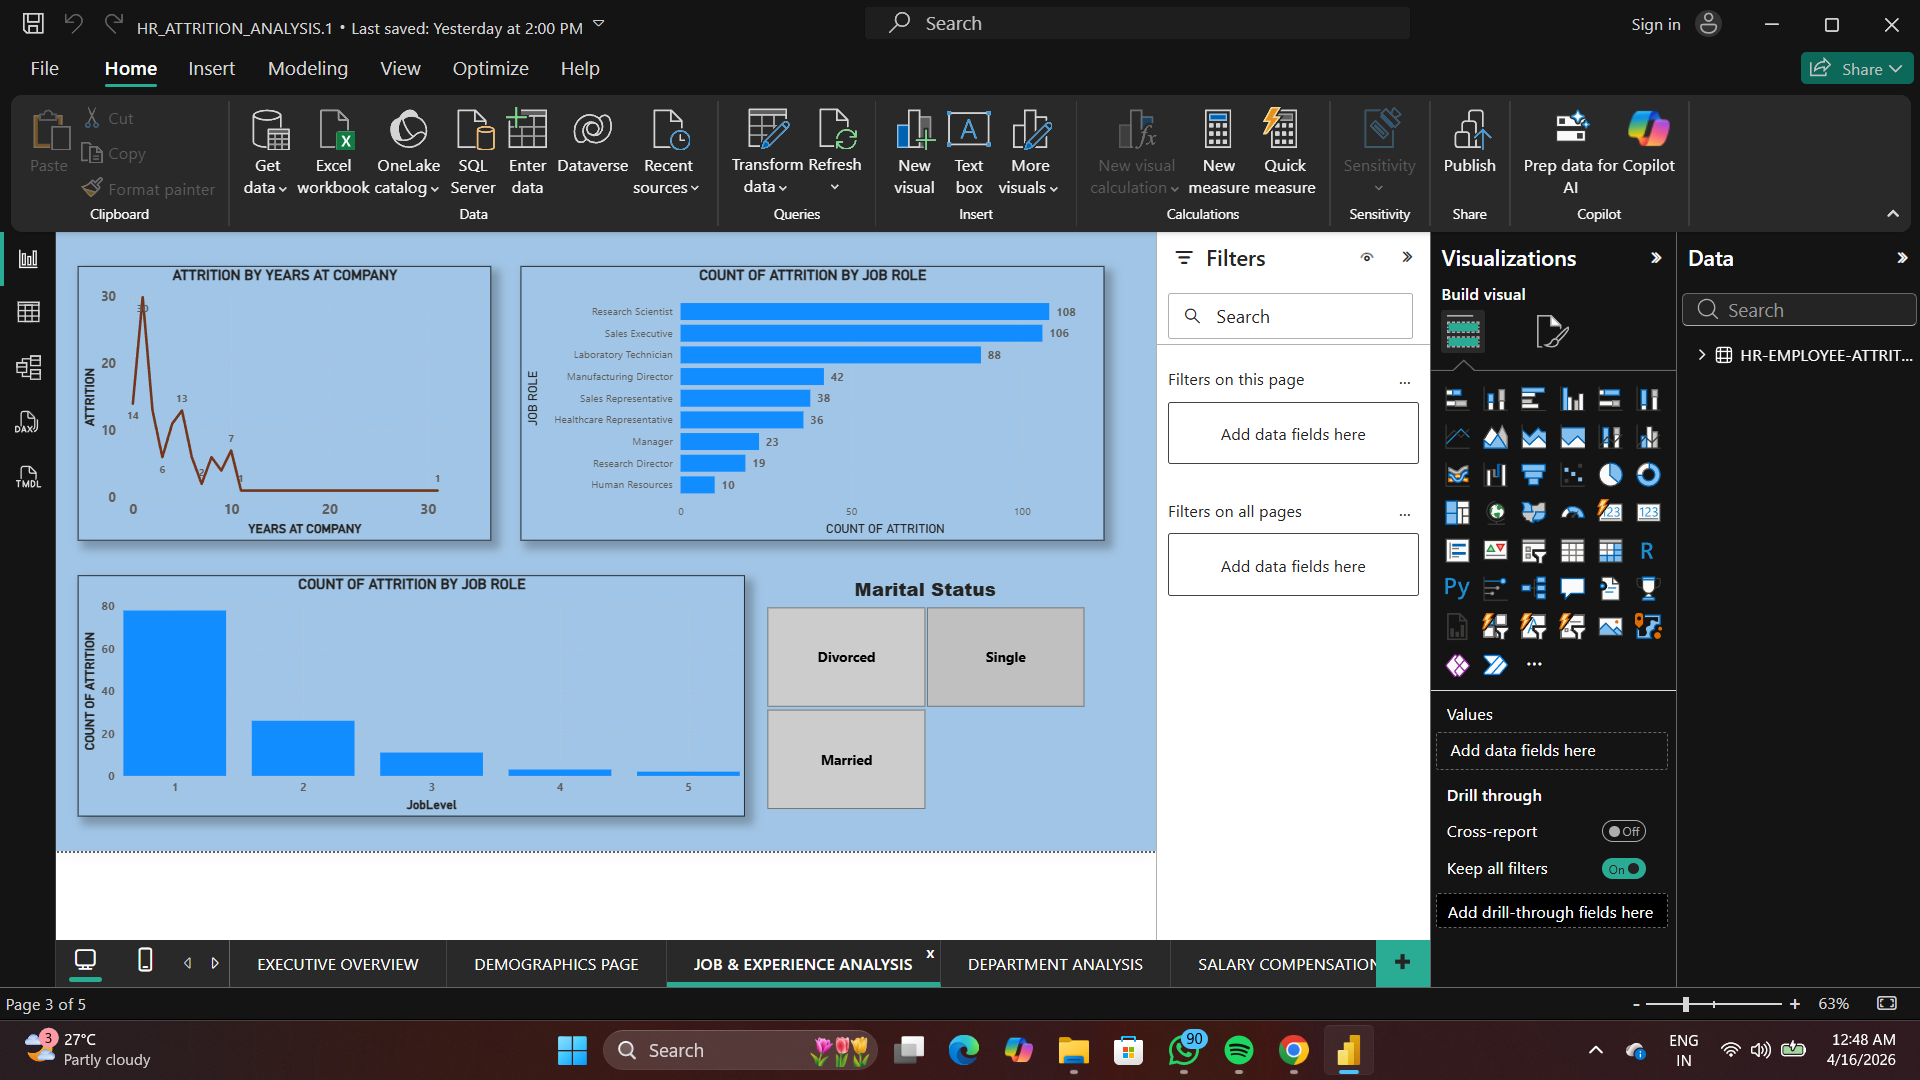

What the dashboard file says about the page in this screenshot:
{"tool":"powerbi","page":{"name":"JOB & EXPERIENCE ANALYSIS","canvas":[1280,720],"ordinal":2},"visuals":[{"type":"lineChart","title":"ATTRITION  BY YEARS AT COMPANY","fields":{"Y":["CountNonNull(HR-EMPLOYEE-ATTRITION.Attrition Count)"],"Category":["HR-EMPLOYEE-ATTRITION.YearsAtCompany"]},"box":[25.2,40.3,480.4,319.2],"z":0},{"type":"barChart","title":"COUNT OF ATTRITION BY JOB ROLE","fields":{"Category":["HR-EMPLOYEE-ATTRITION.JobRole"],"Y":["CountNonNull(HR-EMPLOYEE-ATTRITION.Attrition)"]},"box":[540.9,40.3,678.6,319.2],"z":1000},{"type":"columnChart","title":"COUNT OF ATTRITION BY JOB ROLE","fields":{"Y":["CountNonNull(HR-EMPLOYEE-ATTRITION.Attrition Count)"],"Category":["HR-EMPLOYEE-ATTRITION.JobLevel"]},"box":[25.2,399.8,776.1,280.5],"z":2000},{"type":"slicer","title":"Marital Status","fields":{"Values":["HR-EMPLOYEE-ATTRITION.MaritalStatus"]},"box":[801.3,399.8,418.3,278.8],"z":3000}]}

Visuals, with their boxes on the page's 1280x720 design canvas (x1, y1, x2, y2). These are canvas units, not pixel positions in the 1920x1080 screenshot, which may show the page scaled, cropped or inside an application window:
"ATTRITION  BY YEARS AT COMPANY" lineChart: 25/40/506/360
"COUNT OF ATTRITION BY JOB ROLE" barChart: 541/40/1220/360
"COUNT OF ATTRITION BY JOB ROLE" columnChart: 25/400/801/680
"Marital Status" slicer: 801/400/1220/679
